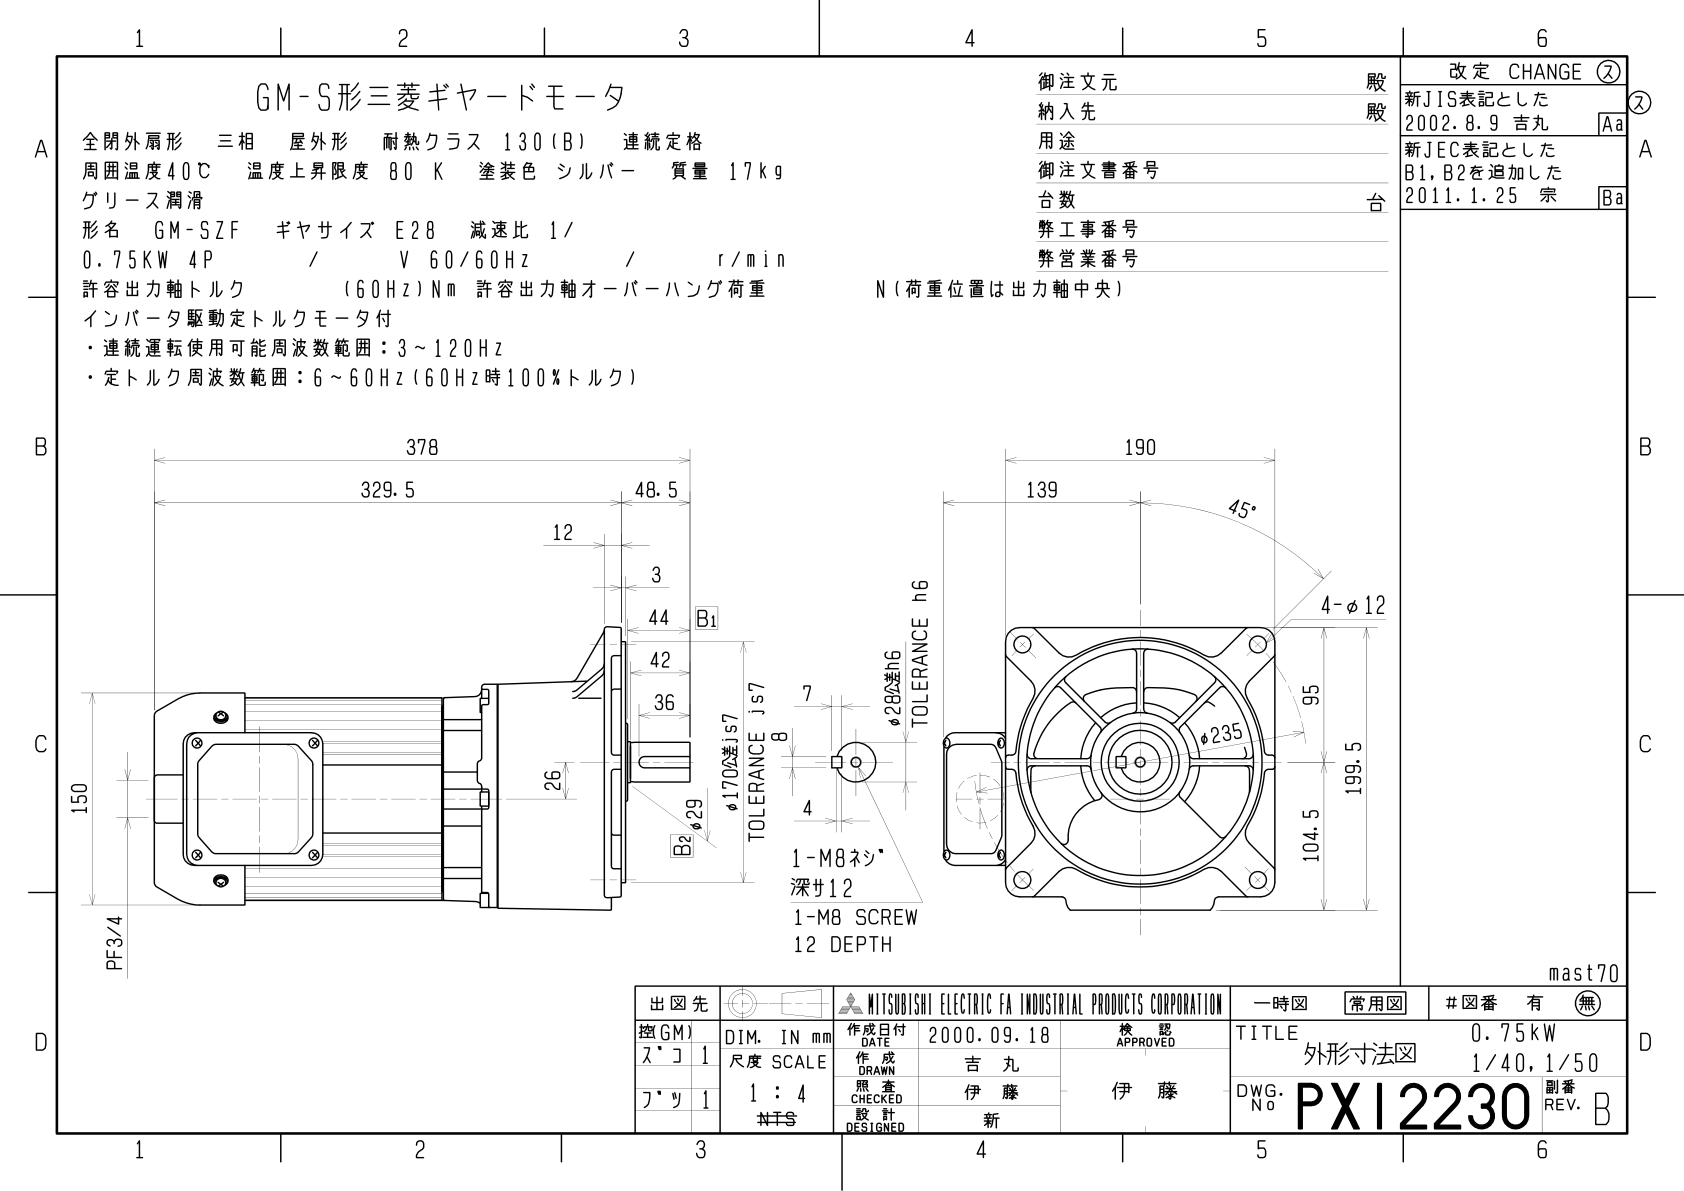GM_S_インバタ屋外＿三相_フランジ: (4, 5, 1684, 1191)
